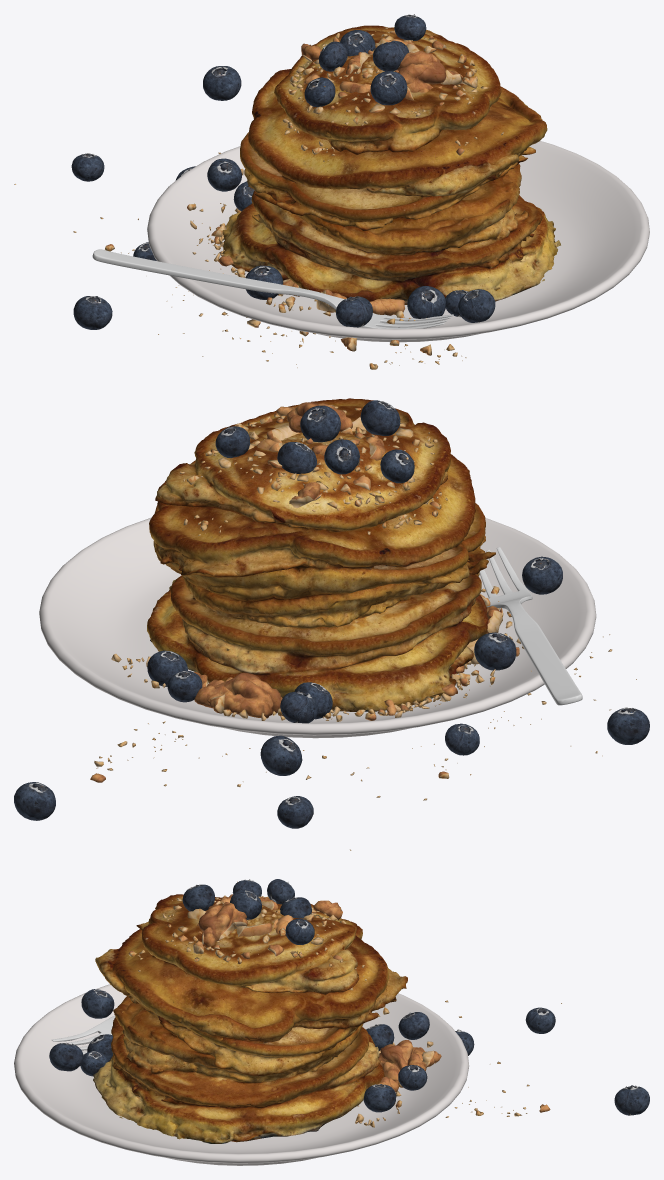
File: panquecas.glb
3 renders of one model, top to bottom at view 1: azimuth 30°, elevation 25°; view 2: azimuth 150°, elevation 25°; view 3: azimuth 270°, elevation 25°, orthographic. The views are drawn at different scales.
Visible parts, largest first — view 1: pancakes_msh, plate_msh, fork_msh, walnut_pancakes_msh, walnut_plate_msh, walnut_broken_msh, blueberry_msh_14, blueberry_msh_13, blueberry_msh_3, blueberry_msh_11, blueberry_msh_18, blueberry_msh_16 (+8 smaller); view 2: pancakes_msh, plate_msh, walnut_plate_msh, walnut_pancakes_msh, fork_msh, walnut_broken_msh, blueberry_msh_20, blueberry_msh_14, blueberry_msh_15, blueberry_msh_13, blueberry_msh_16, blueberry_msh_8 (+11 smaller); view 3: pancakes_msh, plate_msh, walnut_broken_msh, walnut_plate_msh, walnut_pancakes_msh, blueberry_msh_14, blueberry_msh_16, blueberry_msh_18, blueberry_msh_4, blueberry_msh_11, blueberry_msh_19, blueberry_msh_8 (+9 smaller).
Part boxes in pixels (x1,y1,x2,y2): pancakes_msh: (222,25,560,304); plate_msh: (147,141,649,342); fork_msh: (92,249,453,328); walnut_pancakes_msh: (281,27,503,161); walnut_plate_msh: (14,152,466,369); walnut_broken_msh: (301,38,446,100); blueberry_msh_14: (203,66,241,100); blueberry_msh_13: (73,296,112,329); blueberry_msh_3: (407,286,445,318); blueberry_msh_11: (370,71,407,105); blueberry_msh_18: (458,289,495,322); blueberry_msh_16: (336,296,372,327); pancakes_msh: (147,398,495,711); plate_msh: (39,517,596,738); walnut_plate_msh: (90,586,636,850); walnut_pancakes_msh: (179,405,447,535); fork_msh: (479,547,582,705); walnut_broken_msh: (257,402,366,507); blueberry_msh_20: (260,735,302,775); blueberry_msh_14: (14,782,55,820); blueberry_msh_15: (474,632,516,670); blueberry_msh_13: (607,707,649,744); blueberry_msh_16: (522,556,562,594); blueberry_msh_8: (300,405,340,442); pancakes_msh: (93,894,407,1143); plate_msh: (14,984,469,1165); walnut_broken_msh: (187,900,342,940); walnut_plate_msh: (355,1000,561,1127); walnut_pancakes_msh: (128,881,366,990); blueberry_msh_14: (614,1085,649,1115); blueberry_msh_16: (81,989,114,1018); blueberry_msh_18: (49,1043,83,1071); blueberry_msh_4: (363,1084,396,1112); blueberry_msh_11: (182,884,214,911); blueberry_msh_19: (398,1012,429,1039); blueberry_msh_8: (230,889,261,919).
Size of the model in its own units: 0.2506 by 0.1019 by 0.2888.
5 materials, 3 textured.
